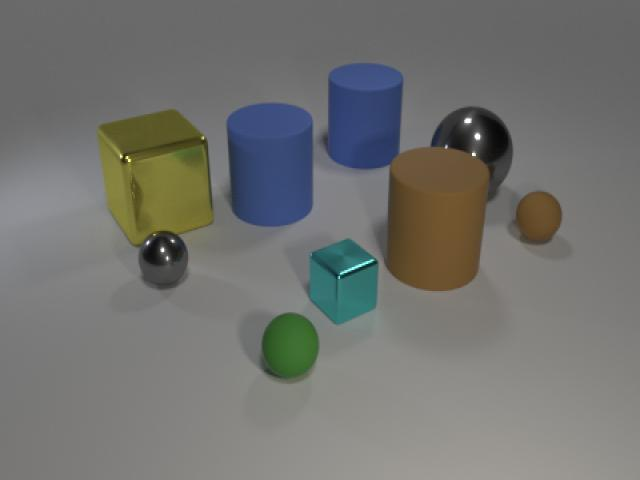cylinder: (381, 142, 492, 296), (223, 97, 318, 230), (322, 58, 406, 171)
round ball: (426, 97, 517, 202), (253, 307, 324, 382), (132, 224, 192, 290), (511, 187, 566, 249)
